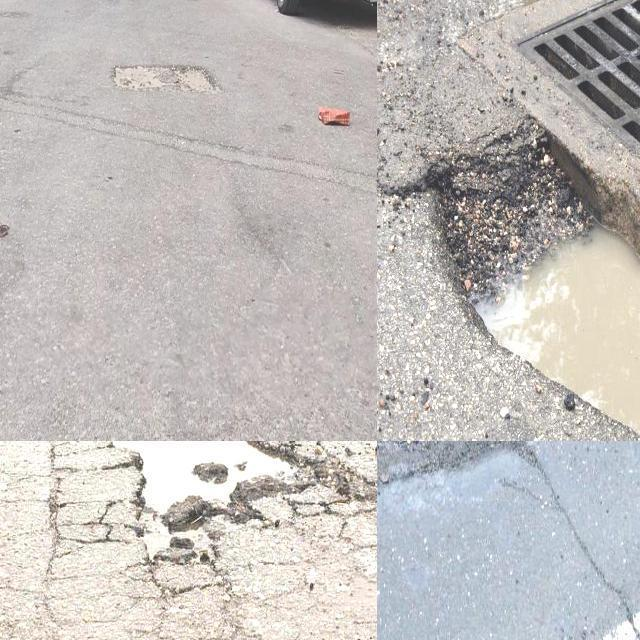Pothole: (426, 123, 640, 439), (108, 441, 366, 559), (110, 64, 210, 93)
